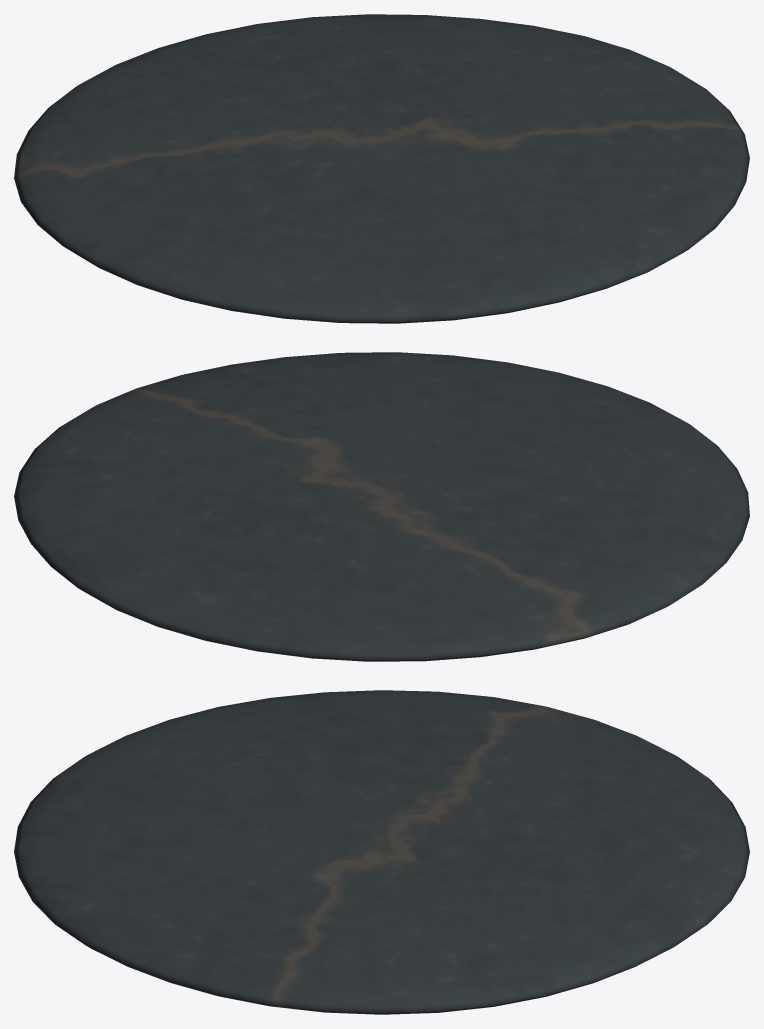
Rendered from master_disc_03.glb.
The picture shows the model from 3 angles, top to bottom: view 1: azimuth 30°, elevation 25°; view 2: azimuth 150°, elevation 25°; view 3: azimuth 270°, elevation 25°; orthographic projection. The views are drawn at different scales.
Visible parts, largest first — view 1: master_disc_03; view 2: master_disc_03; view 3: master_disc_03.
Boxes of the visible parts, box(x1,y1,x2,y2) form: master_disc_03: box(14, 14, 749, 323); master_disc_03: box(14, 352, 749, 661); master_disc_03: box(14, 690, 749, 1014).
Size of the model in its own units: 0.091 by 0.00611 by 0.0882.
1 material, 1 textured.
